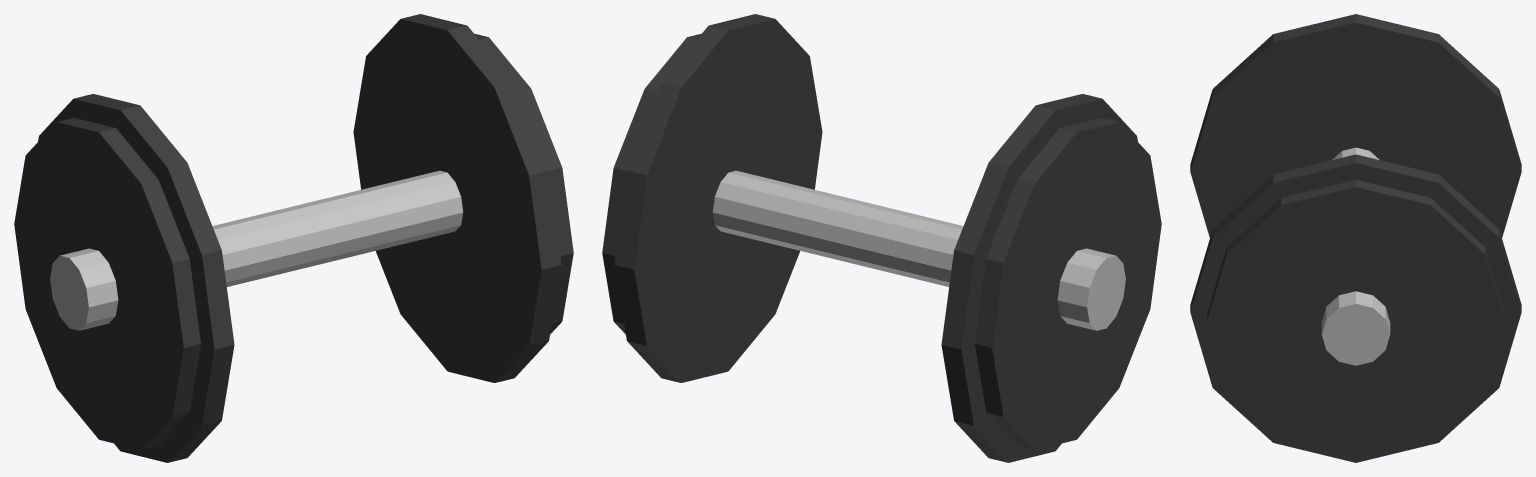
The model's file is dambıl.fbx.
3 renders of one model, left to right at view 1: azimuth 30°, elevation 25°; view 2: azimuth 150°, elevation 25°; view 3: azimuth 270°, elevation 25°, orthographic. The views are drawn at different scales.
Parts seen in each view (by area): view 1: dambıl; view 2: dambıl; view 3: dambıl.
Boxes of the visible parts, box(x1,y1,x2,y2) form: dambıl: box(14, 14, 573, 462); dambıl: box(602, 14, 1161, 462); dambıl: box(1190, 14, 1521, 462).
Bounding box in the file's own units: 1651 × 1199 × 1199.
